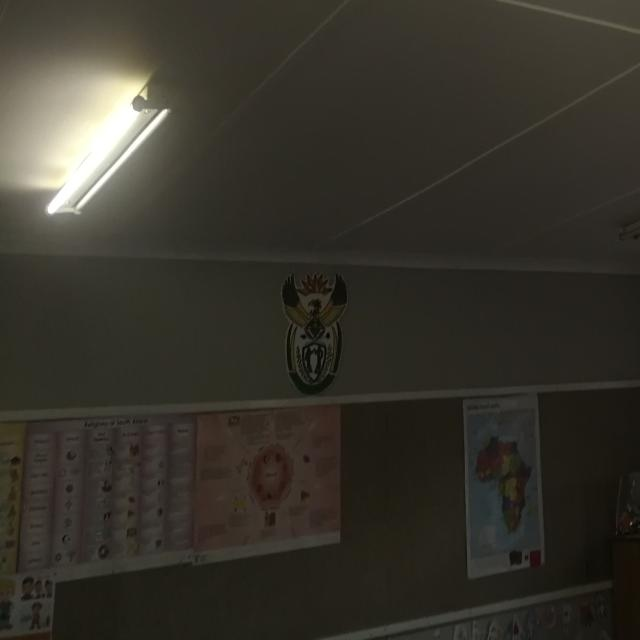fluorescent tube: (29, 46, 174, 242)
